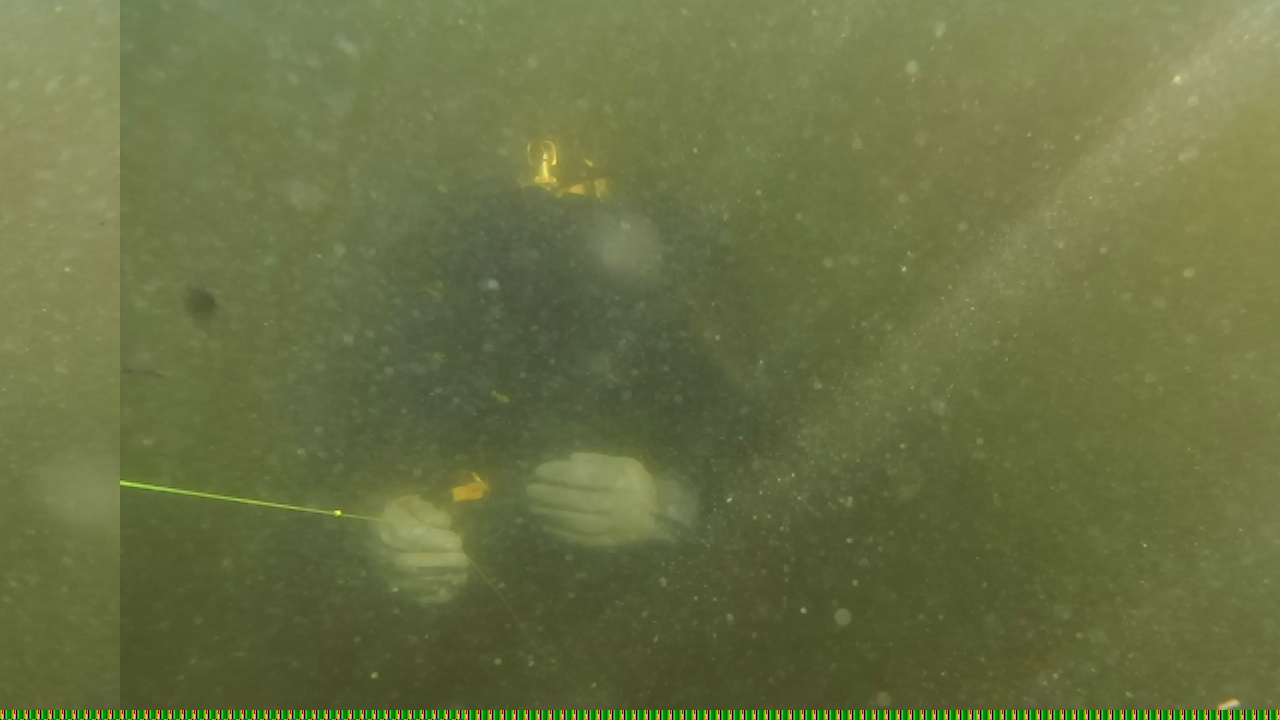Diver: (244, 124, 820, 626)
Hand: (334, 444, 704, 618)
